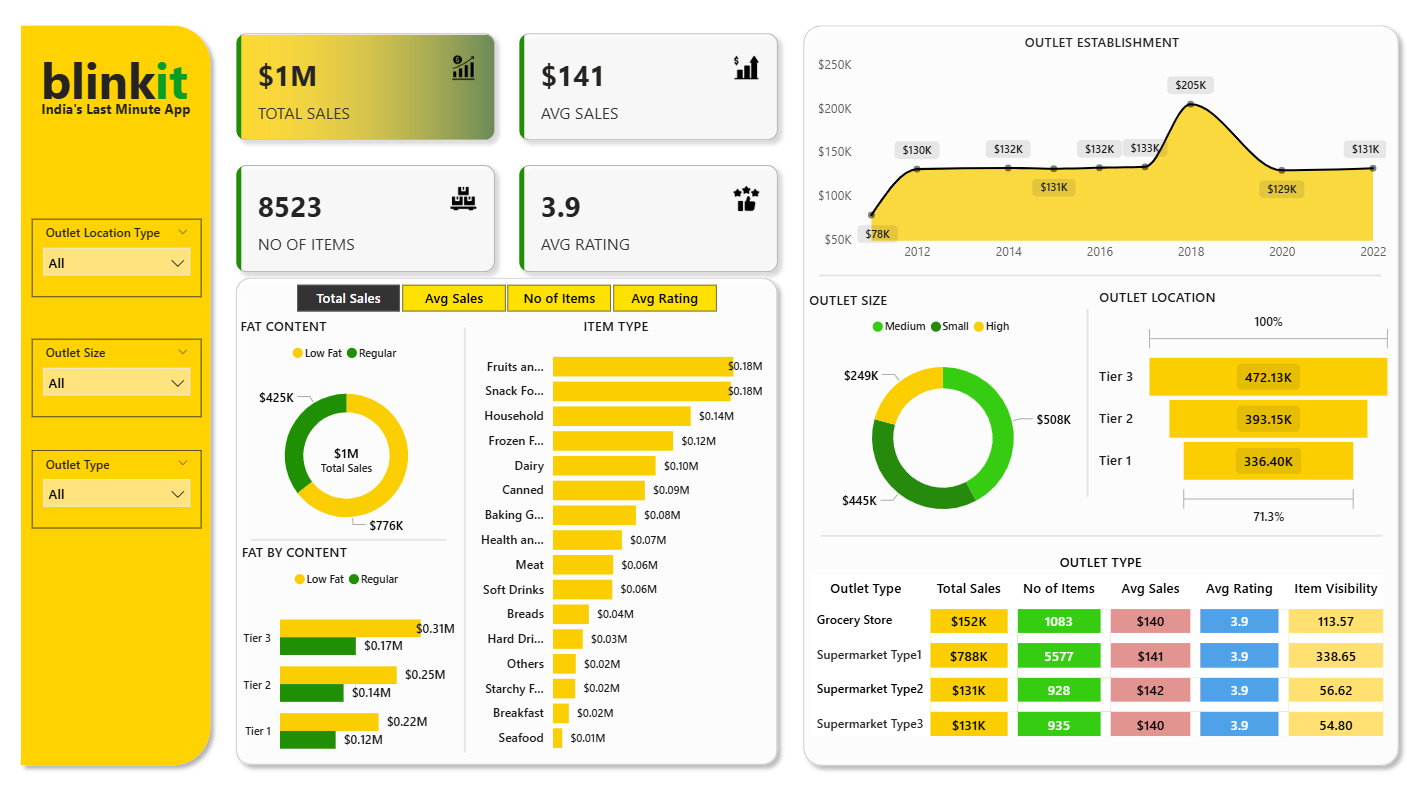

This screenshot's page, from the dashboard's own definition file:
{"tool":"powerbi","page":{"name":"Page 1","canvas":[1400,800],"ordinal":0},"visuals":[{"type":"shape","box":[18,25.5,205.6,750.4],"z":0},{"type":"textbox","box":[28.5,51,183.1,76.5],"z":1000},{"type":"textbox","box":[32.1,103.8,179.2,27.5],"z":2000},{"type":"cardVisual","fields":{"Data":["BlinkIT-Grocery-Data ws.Total Sales","BlinkIT-Grocery-Data ws.Avg Sales","BlinkIT-Grocery-Data ws.No of Items","BlinkIT-Grocery-Data ws.Avg Rating"]},"box":[223.6,25.5,570.3,270.2],"z":3000},{"type":"shape","box":[231.1,276.2,553.8,499.8],"z":4000},{"type":"donutChart","title":"FAT CONTENT","fields":{"Y":["BlinkIT-Grocery-Data ws.Total Sales"],"Category":["BlinkIT-Grocery-Data ws.Item Fat Content"]},"box":[239.9,323.1,219.8,230.6],"z":5000},{"type":"slicer","fields":{"Values":["Metric.Metric"]},"box":[275.2,284.3,465.4,40.5],"z":6000},{"type":"cardVisual","fields":{"Data":["BlinkIT-Grocery-Data ws.Total Sales"]},"box":[304.7,431.8,91.6,62.6],"z":7000},{"type":"clusteredBarChart","title":"FAT BY CONTENT","fields":{"Y":["BlinkIT-Grocery-Data ws.Total Sales"],"Category":["BlinkIT-Grocery-Data ws.Outlet Location Type"],"Series":["BlinkIT-Grocery-Data ws.Item Fat Content"]},"box":[241.3,546.9,221.2,229.2],"z":8000},{"type":"shape","box":[254.3,533.3,194.3,21.9],"z":9000},{"type":"shape","box":[460.1,334,13.6,420.5],"z":10000},{"type":"barChart","title":"ITEM TYPE","fields":{"Y":["BlinkIT-Grocery-Data ws.Total Sales"],"Category":["BlinkIT-Grocery-Data ws.Item Type"]},"box":[466.5,323.1,300.3,442.4],"z":11000},{"type":"shape","box":[792.2,25.5,607.2,750.7],"z":12000},{"type":"lineChart","title":"OUTLET ESTABLISHMENT","fields":{"Y":["BlinkIT-Grocery-Data ws.Total Sales"],"Category":["BlinkIT-Grocery-Data ws.Outlet Establishment Year"]},"box":[811.4,42,572.3,235.3],"z":13000},{"type":"donutChart","title":"OUTLET SIZE","fields":{"Y":["BlinkIT-Grocery-Data ws.Total Sales"],"Category":["BlinkIT-Grocery-Data ws.Outlet Size"]},"box":[803,296.2,274.8,248],"z":14000},{"type":"shape","box":[1077.2,315.4,11.4,185.7],"z":15000},{"type":"funnel","title":"OUTLET LOCATION","fields":{"Y":["Sum(BlinkIT-Grocery-Data ws.Sales)"],"Category":["BlinkIT-Grocery-Data ws.Outlet Location Type"]},"box":[1089.8,294.9,300.3,242.6],"z":16000},{"type":"shape","box":[819,532.9,555.8,14],"z":17000},{"type":"pivotTable","title":"OUTLET TYPE","fields":{"Rows":["BlinkIT-Grocery-Data ws.Outlet Type"],"Values":["BlinkIT-Grocery-Data ws.Total Sales","BlinkIT-Grocery-Data ws.No of Items","BlinkIT-Grocery-Data ws.Avg Sales","BlinkIT-Grocery-Data ws.Avg Rating","Sum(BlinkIT-Grocery-Data ws.Item Visibility)"]},"box":[805.6,556.3,581.8,198.4],"z":18000},{"type":"slicer","fields":{"Values":["BlinkIT-Grocery-Data ws.Outlet Location Type"]},"box":[38.2,226.4,167.9,77.6],"z":19000},{"type":"slicer","fields":{"Values":["BlinkIT-Grocery-Data ws.Outlet Size"]},"box":[38.2,344.7,167.9,77.6],"z":20000},{"type":"slicer","fields":{"Values":["BlinkIT-Grocery-Data ws.Outlet Type"]},"box":[38.2,455.3,167.9,77.6],"z":21000},{"type":"shape","box":[817.7,276.1,556.3,13.4],"z":22000}]}

Visuals, with their boxes in screenshot pixels (x1, y1, x2, y2), scaled from the page's 1400x800 canvas onto the 1407x789 screenshot:
shape: bbox(18, 25, 225, 765)
textbox: bbox(29, 50, 213, 126)
textbox: bbox(32, 102, 212, 129)
cardVisual - BlinkIT-Grocery-Data ws.Total Sales x BlinkIT-Grocery-Data ws.Avg Sales: bbox(225, 25, 798, 292)
shape: bbox(232, 272, 789, 765)
"FAT CONTENT" donutChart: bbox(241, 319, 462, 546)
slicer - Metric.Metric: bbox(277, 280, 744, 320)
cardVisual - BlinkIT-Grocery-Data ws.Total Sales: bbox(306, 426, 398, 488)
"FAT BY CONTENT" clusteredBarChart: bbox(243, 539, 465, 765)
shape: bbox(256, 526, 451, 548)
shape: bbox(462, 329, 476, 744)
"ITEM TYPE" barChart: bbox(469, 319, 771, 755)
shape: bbox(796, 25, 1406, 766)
"OUTLET ESTABLISHMENT" lineChart: bbox(815, 41, 1391, 273)
"OUTLET SIZE" donutChart: bbox(807, 292, 1083, 537)
shape: bbox(1083, 311, 1094, 494)
"OUTLET LOCATION" funnel: bbox(1095, 291, 1397, 530)
shape: bbox(823, 526, 1382, 539)
"OUTLET TYPE" pivotTable: bbox(810, 549, 1394, 744)
slicer - BlinkIT-Grocery-Data ws.Outlet Location Type: bbox(38, 223, 207, 300)
slicer - BlinkIT-Grocery-Data ws.Outlet Size: bbox(38, 340, 207, 416)
slicer - BlinkIT-Grocery-Data ws.Outlet Type: bbox(38, 449, 207, 526)
shape: bbox(822, 272, 1381, 286)
